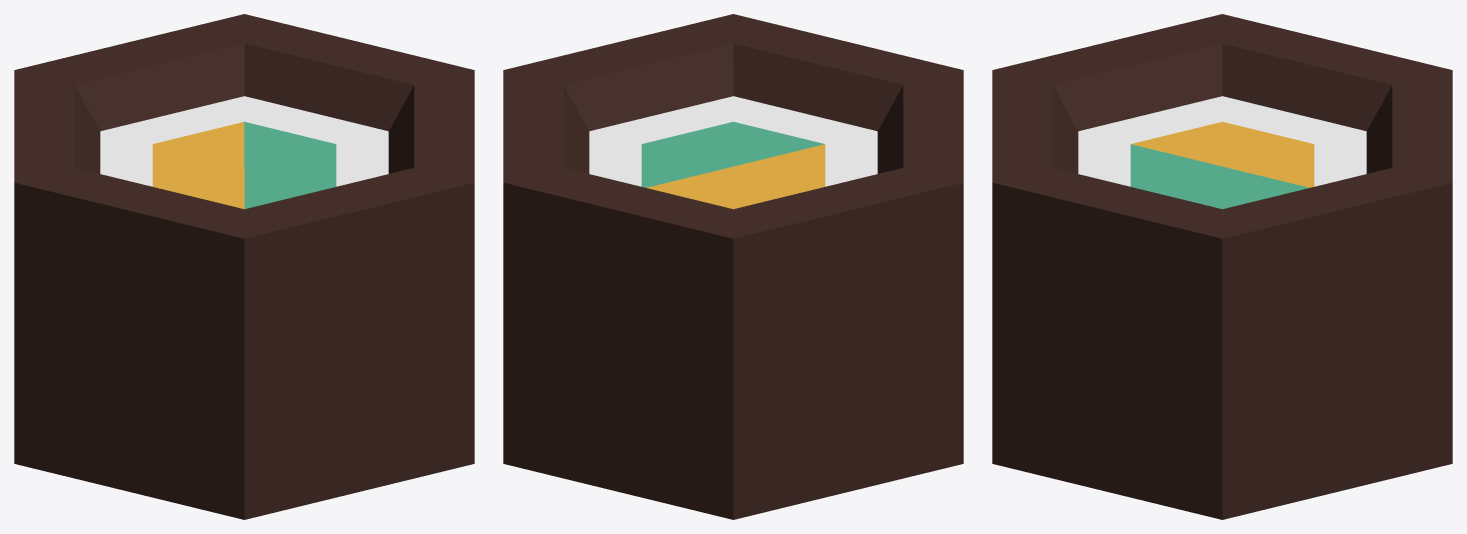
The model's file is makiVegetable.obj.
3 views of the same model, side by side, from view 1: azimuth 30°, elevation 25°; view 2: azimuth 150°, elevation 25°; view 3: azimuth 270°, elevation 25° (orthographic).
Parts seen in each view (by area): view 1: makiVegetable; view 2: makiVegetable; view 3: makiVegetable.
Part boxes in pixels (<box>): makiVegetable: <box>14,14,474,519</box>; makiVegetable: <box>503,14,963,519</box>; makiVegetable: <box>992,14,1452,519</box>.
Bounding box in the file's own units: 0.12 × 0.07 × 0.1039.
